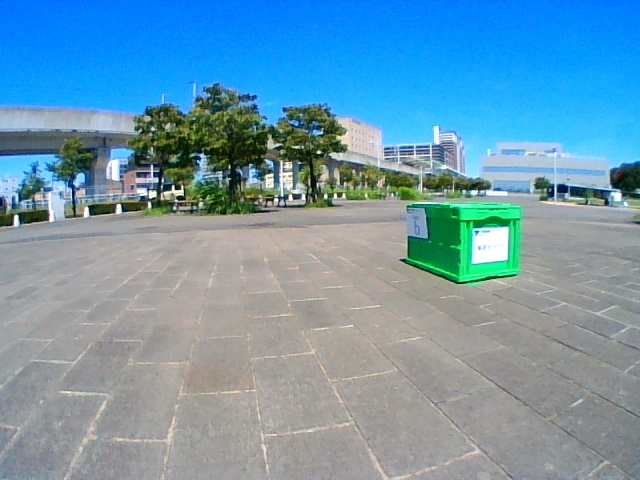green_box: (405, 202, 519, 282)
tag_b: (407, 207, 426, 236)
